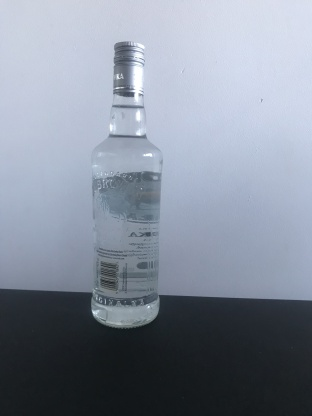nakretka: (111, 38, 146, 98)
